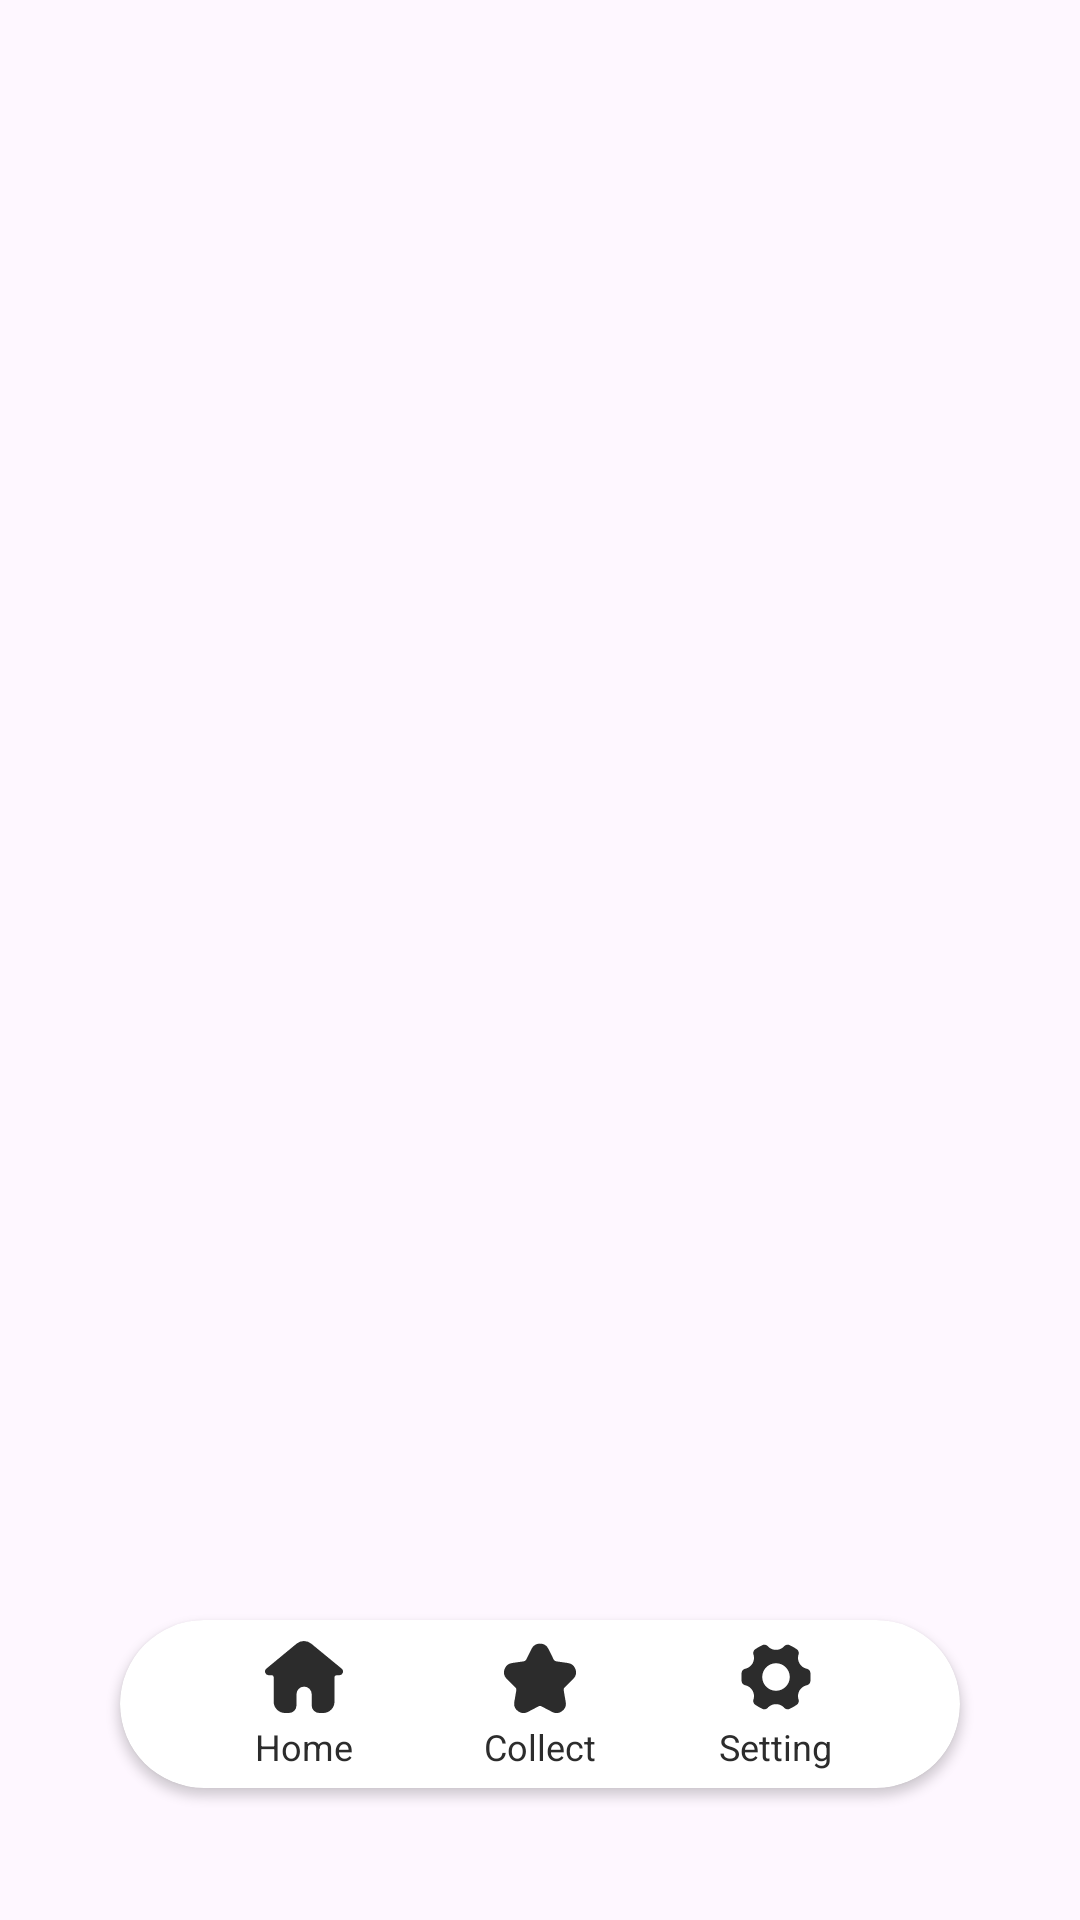

Where to tap for icons on this 1080 x 1920 app screen, as point (x, y):
rating: point (540, 1678)
